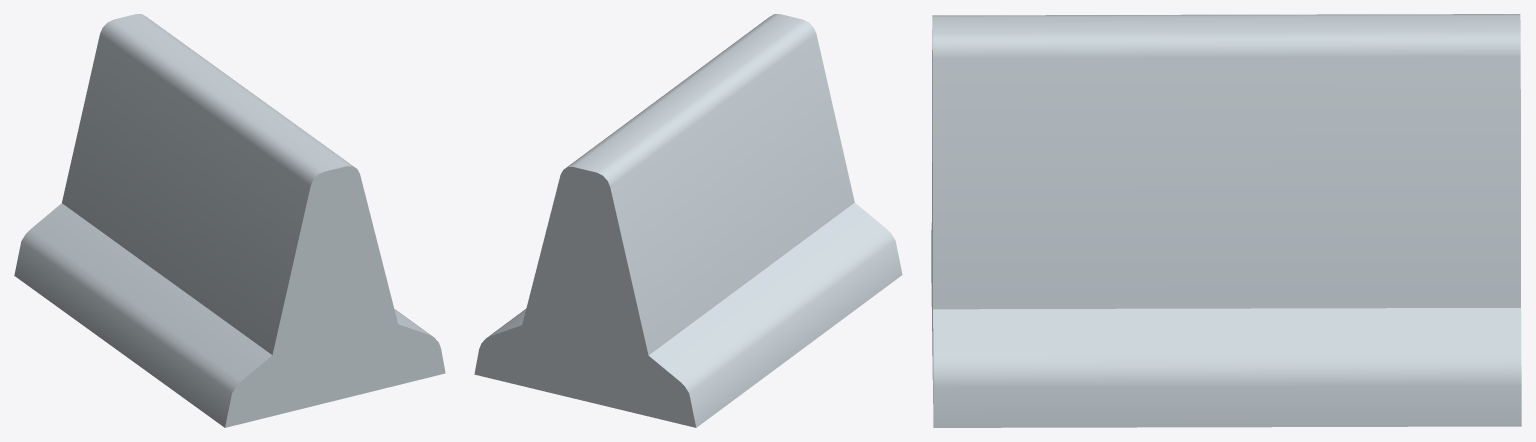
The model's file is Ormigon_01.fbx.
3 views of the same model, side by side, from view 1: azimuth 30°, elevation 25°; view 2: azimuth 150°, elevation 25°; view 3: azimuth 270°, elevation 25° (orthographic). The views are drawn at different scales.
Parts seen in each view (by area): view 1: Ormigon_01; view 2: Ormigon_01; view 3: Ormigon_01.
Boxes of the visible parts, box(x1,y1,x2,y2) form: Ormigon_01: box(14, 14, 445, 427); Ormigon_01: box(474, 14, 902, 427); Ormigon_01: box(931, 14, 1521, 427).
Size of the model in its own units: 202 by 200 by 328.
